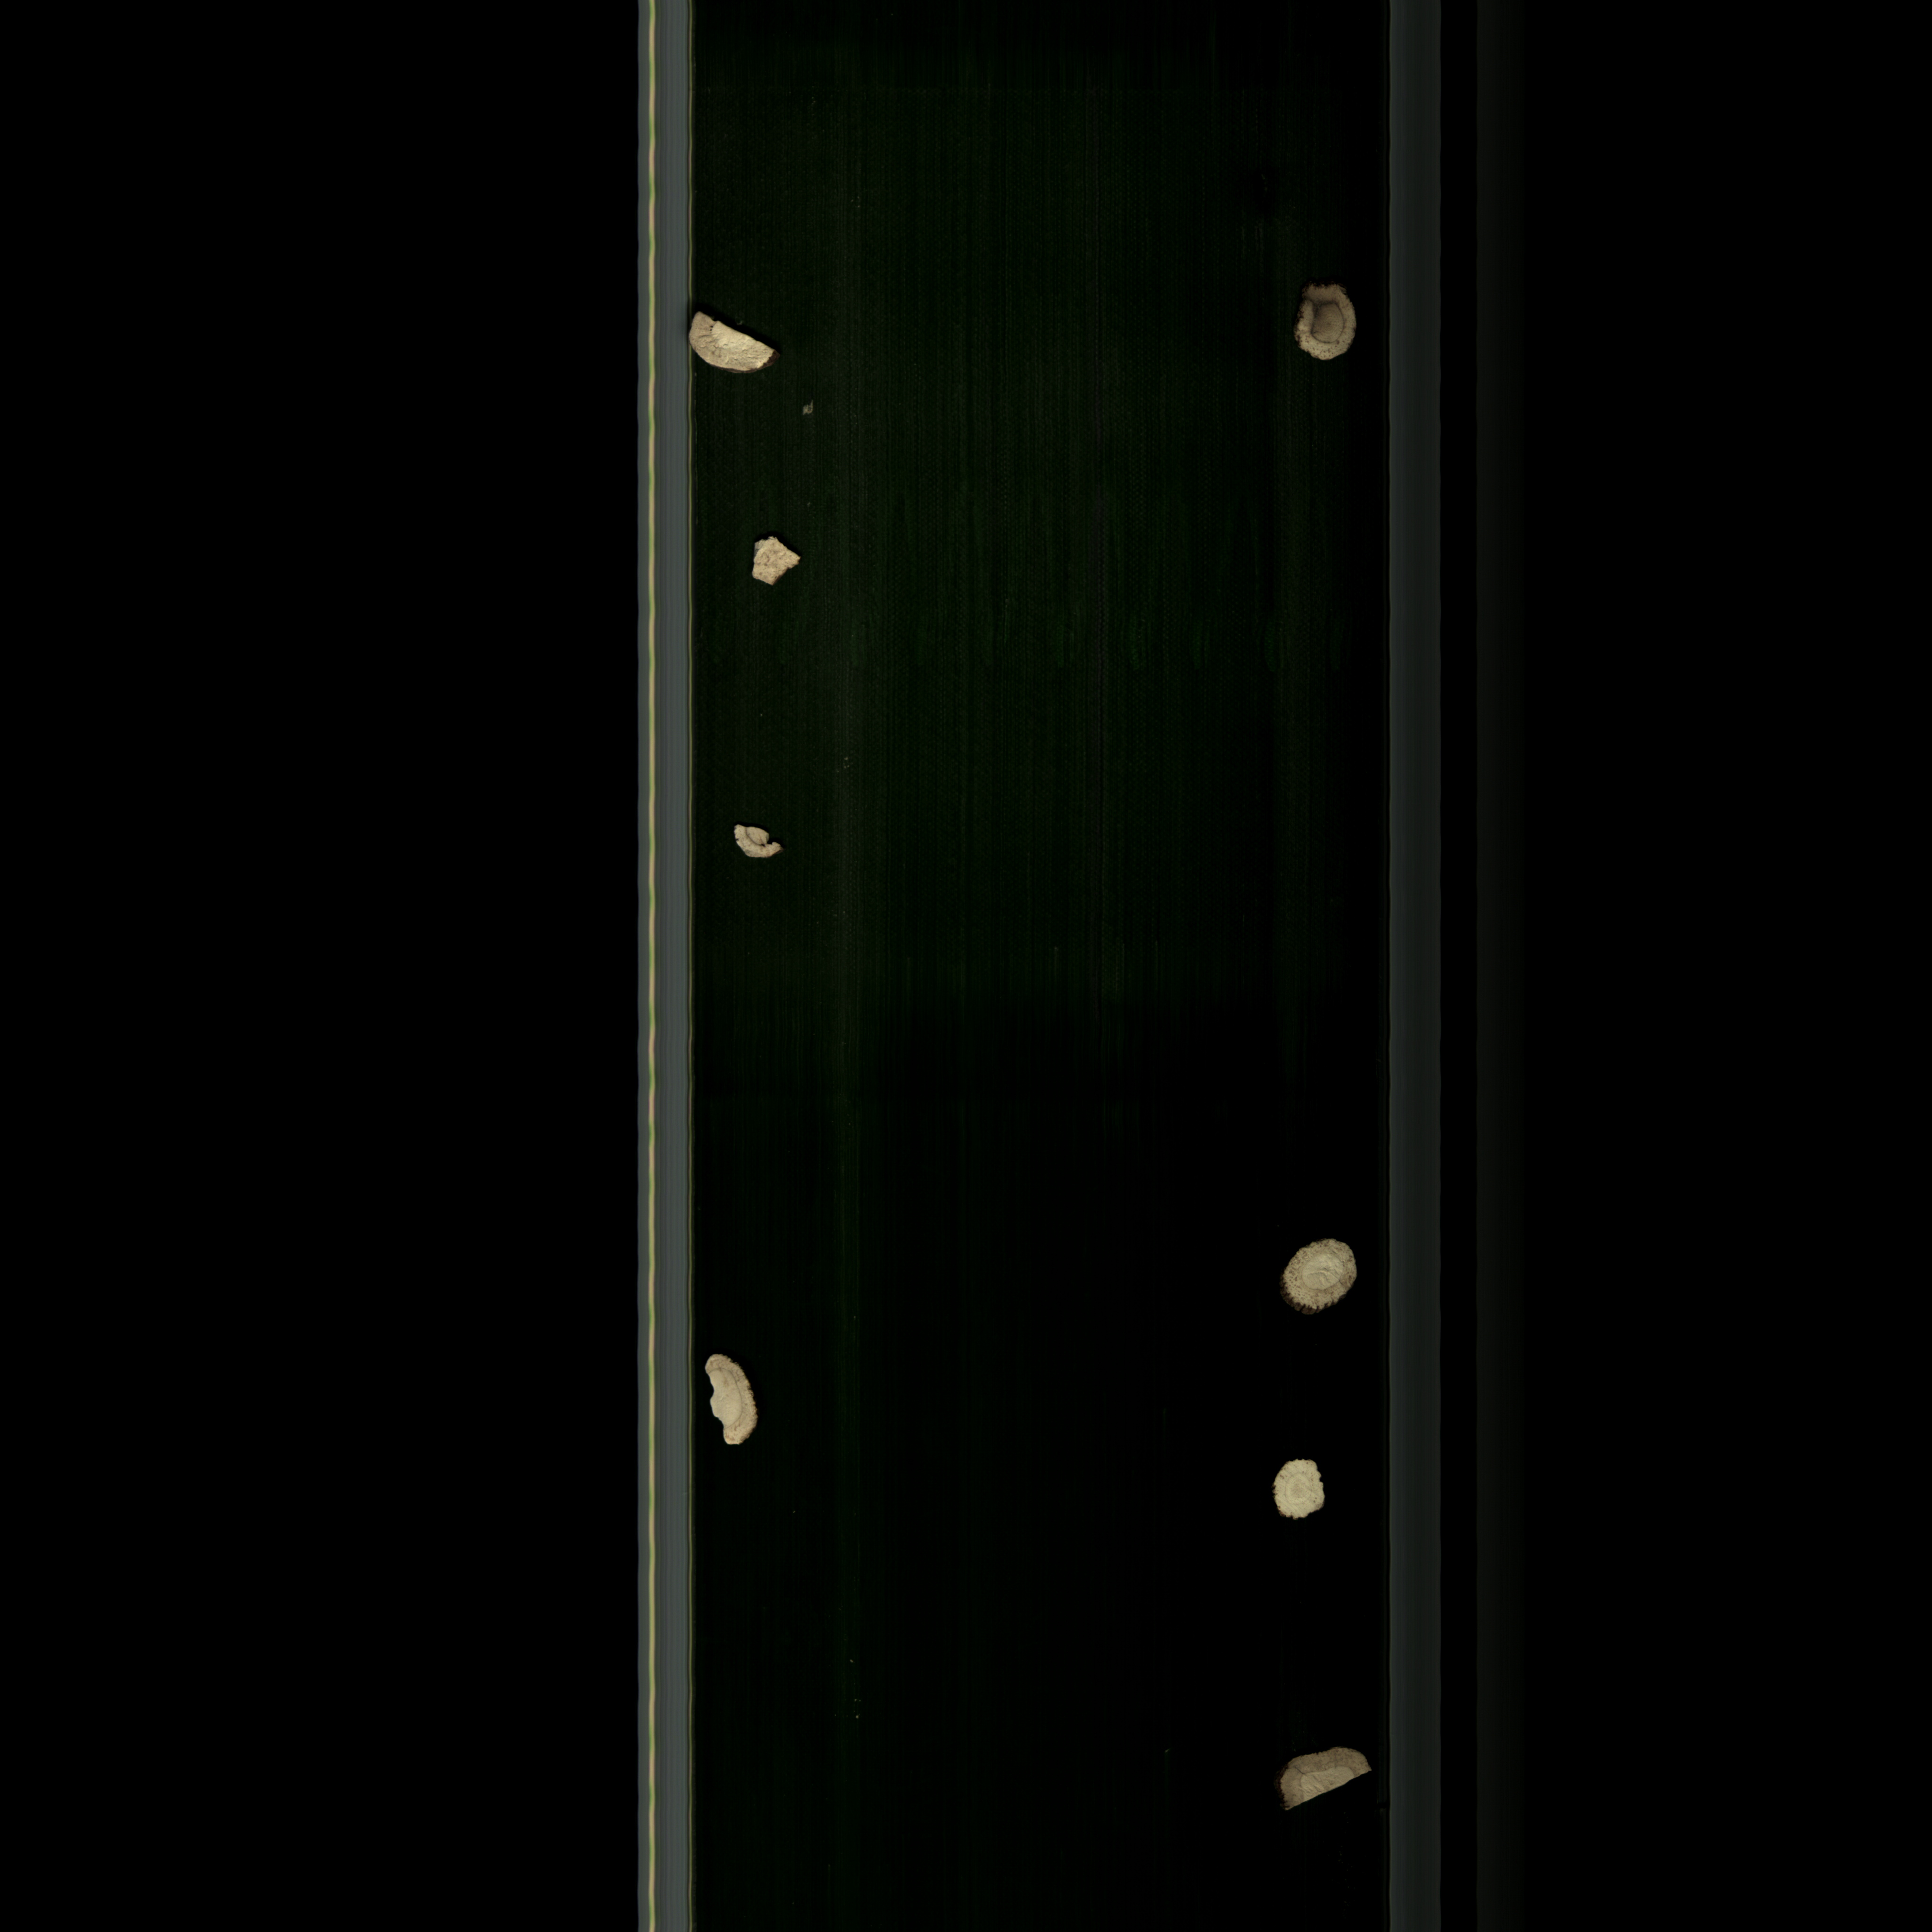debris: (1269, 1737, 1371, 1815), (701, 1348, 775, 1453), (686, 303, 793, 375)
distortion: (1265, 1456, 1341, 1523)
dreg: (715, 810, 789, 872), (743, 531, 807, 594)
moldy: (1288, 269, 1366, 372)
